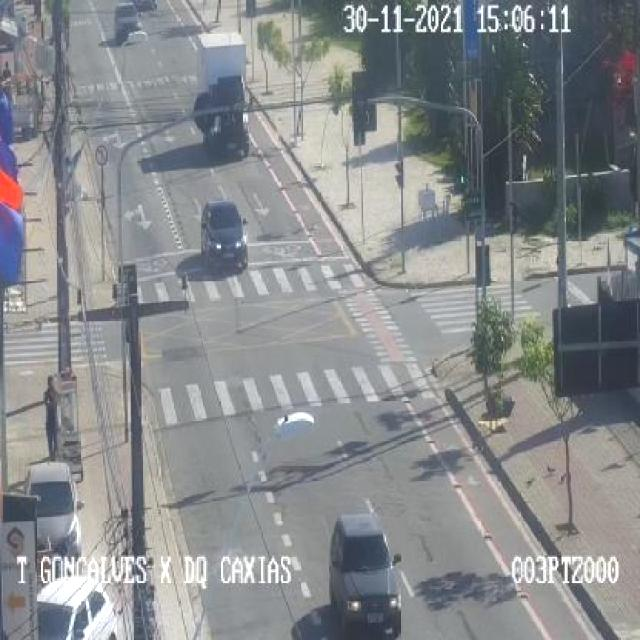Car: (327, 514, 404, 636), (22, 462, 84, 558), (37, 575, 117, 640), (197, 201, 251, 272), (111, 1, 144, 46)
Truck: (192, 31, 254, 161)
